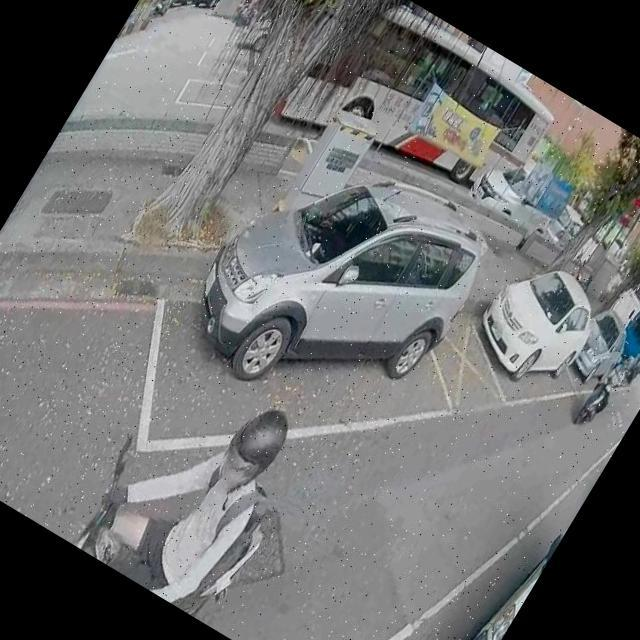person: (72, 350, 308, 616), (576, 345, 636, 427), (235, 0, 268, 27), (156, 0, 176, 8)
